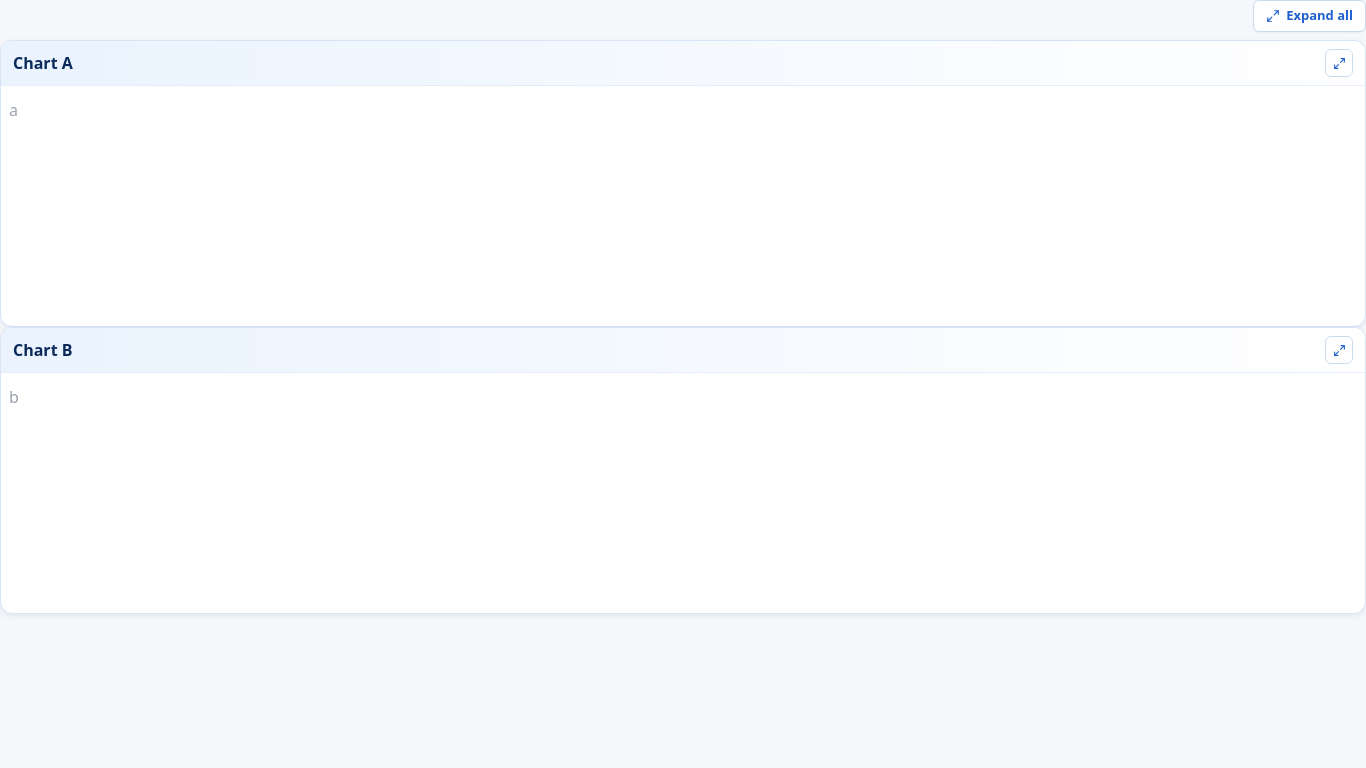
Test case: ChartGroup › Esc / Close close it and restore page scroll
Click the button "Expand all": (1310, 16) [1253,0,1365,32]
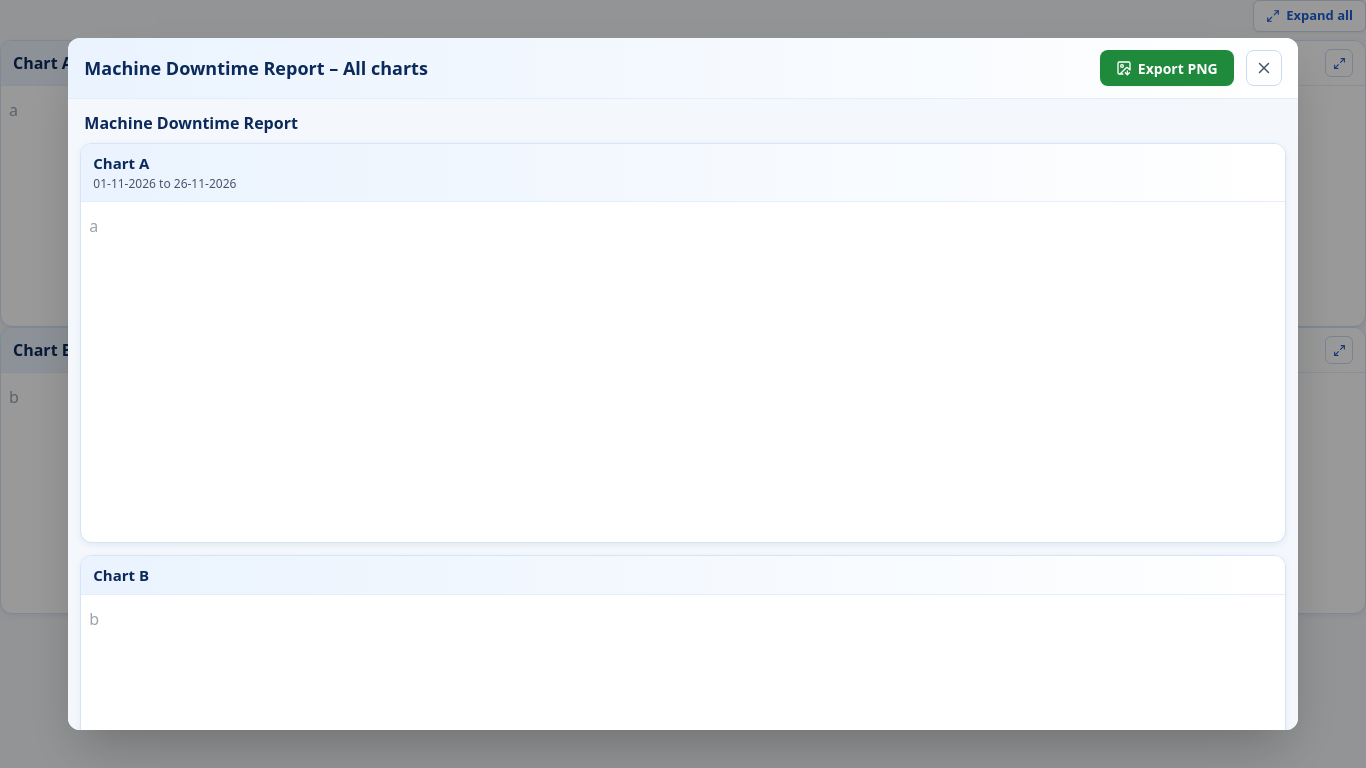
Press Escape
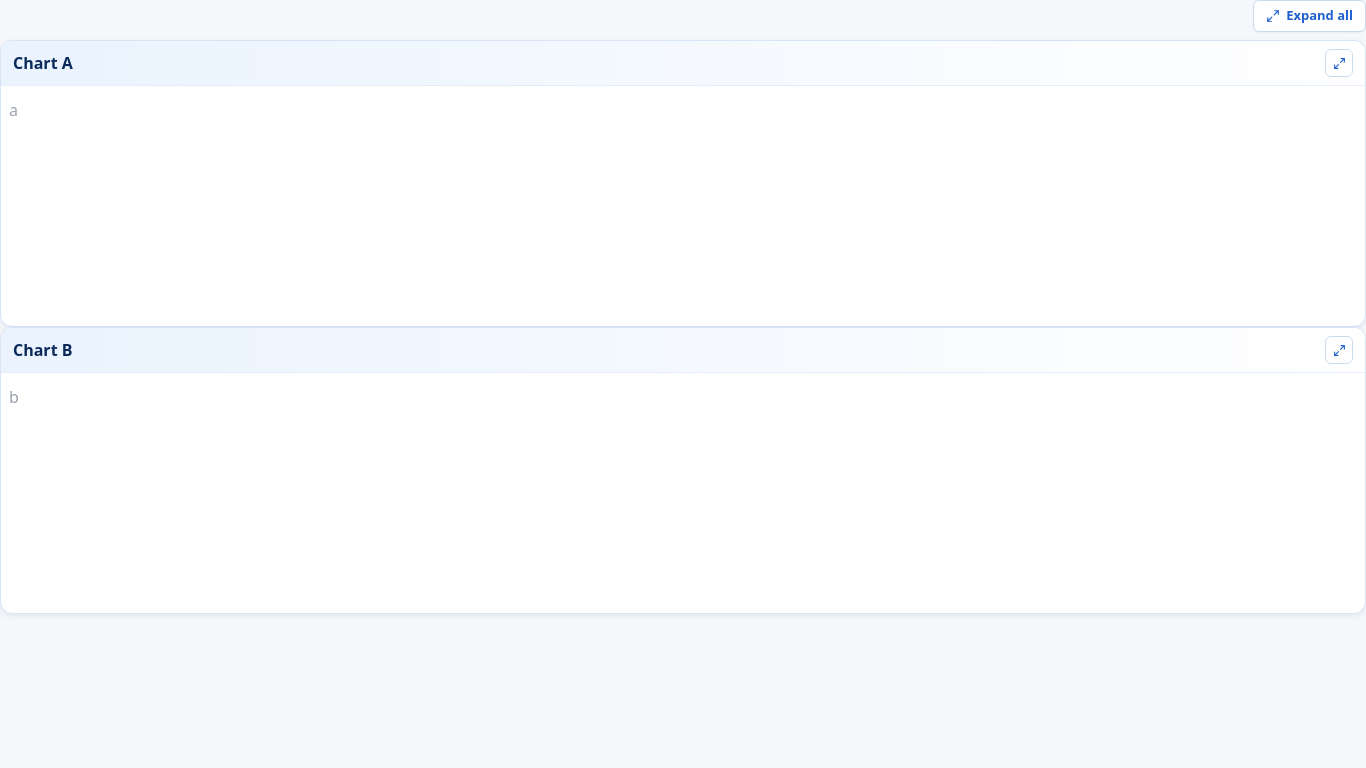
Check: the dialog is gone
Click the button "Expand all": (1310, 16) [1253,0,1365,32]
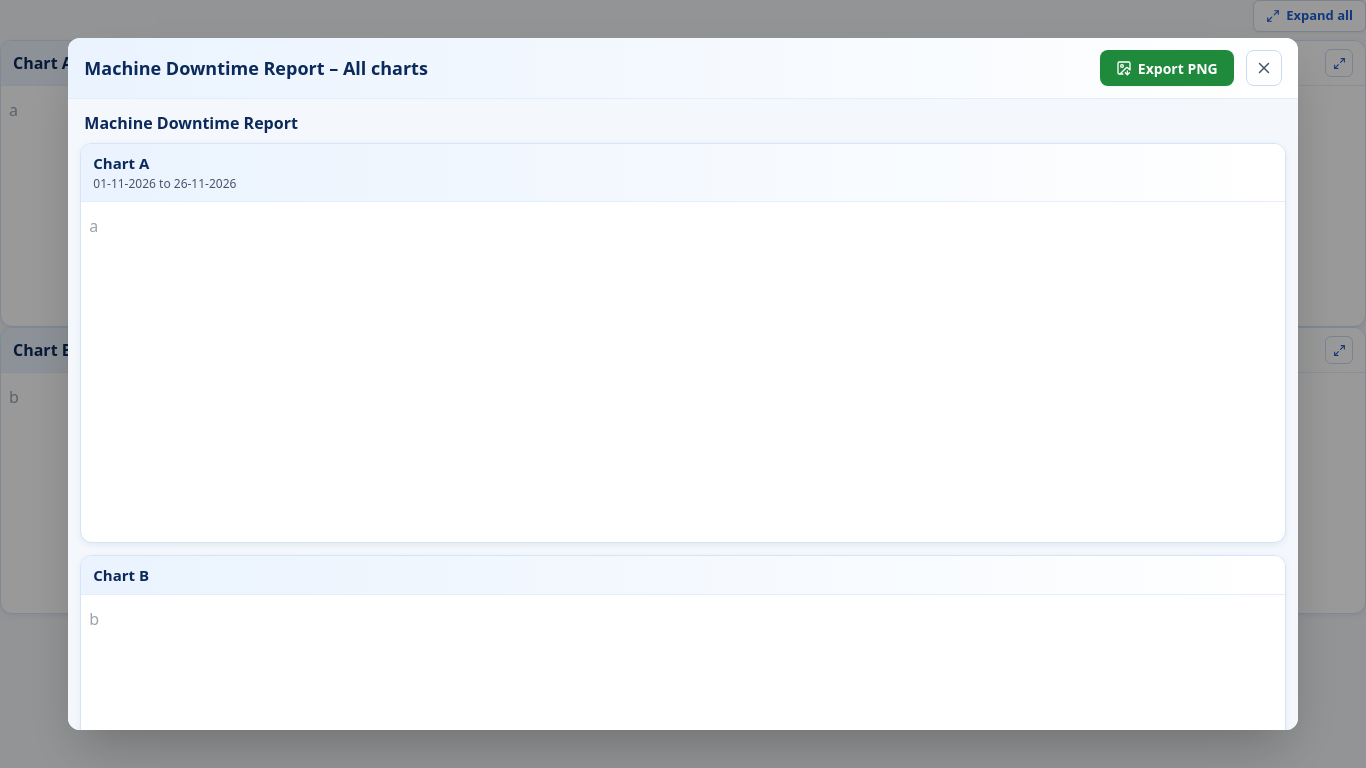
Click the button named "Close": (1264, 68) [1246,50,1282,86]
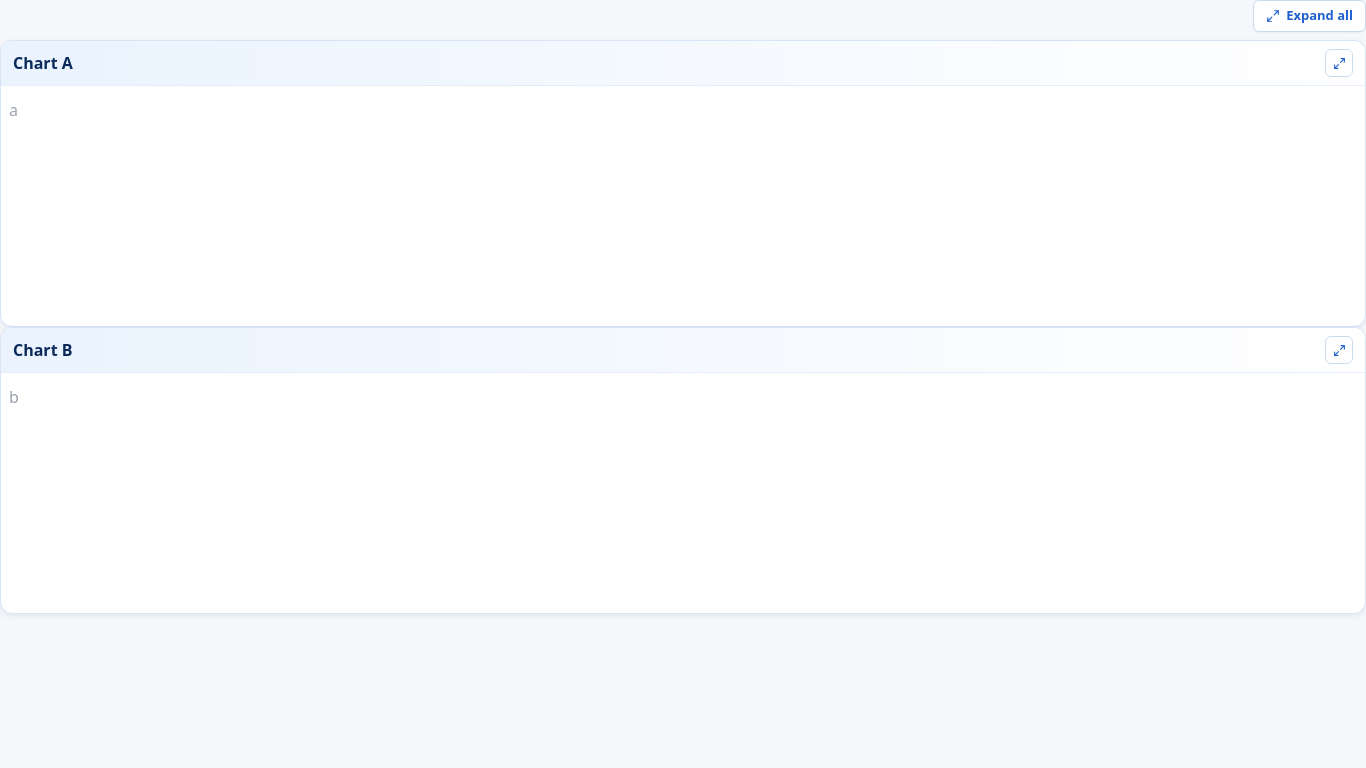
Check: the dialog is gone
